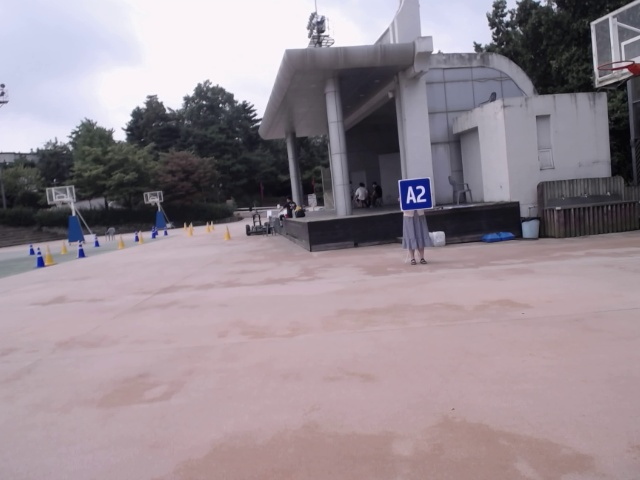delivery_a2: (399, 178, 433, 210)
